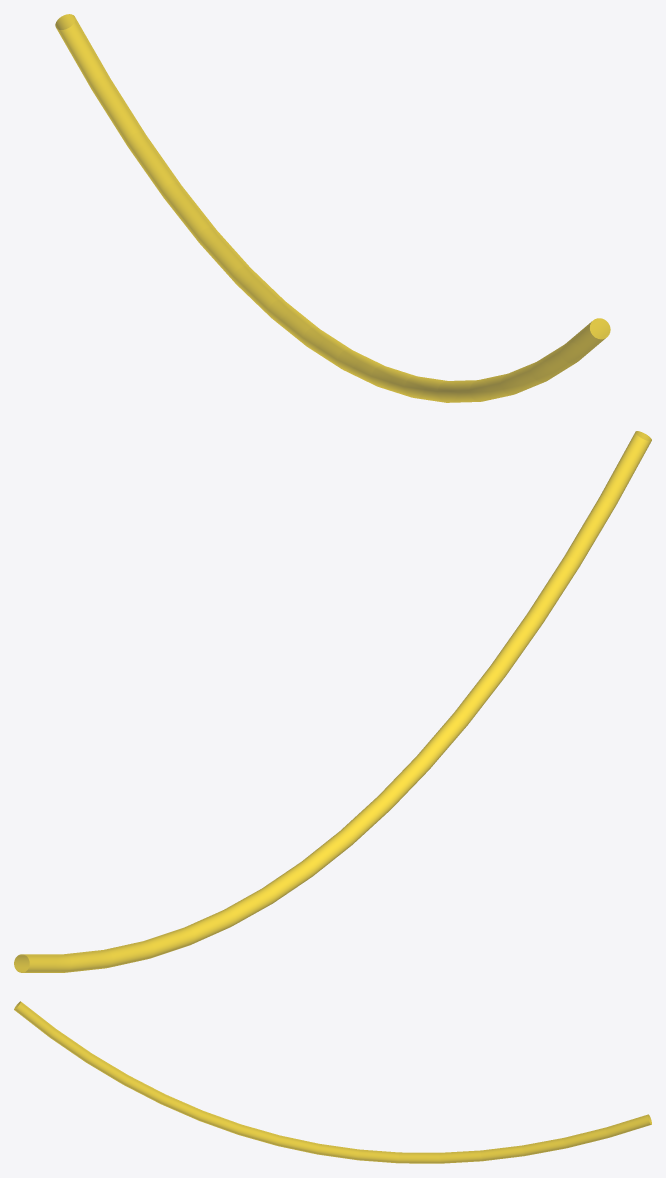
The model's file is Event_27938768_track_6.fbx.
3 renders of one model, top to bottom at view 1: azimuth 30°, elevation 25°; view 2: azimuth 150°, elevation 25°; view 3: azimuth 270°, elevation 25°, orthographic. The views are drawn at different scales.
Visible parts, largest first — view 1: Model; view 2: Model; view 3: Model.
Part boxes in pixels (left/top/right/bottom): Model: left=55, top=14, right=610, bottom=402; Model: left=14, top=431, right=651, bottom=972; Model: left=14, top=1001, right=651, bottom=1163.
Size of the model in its own units: 0.2452 by 0.5883 by 2.32.
